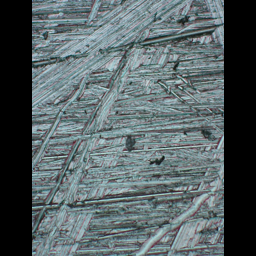d: (32, 4, 224, 255)
